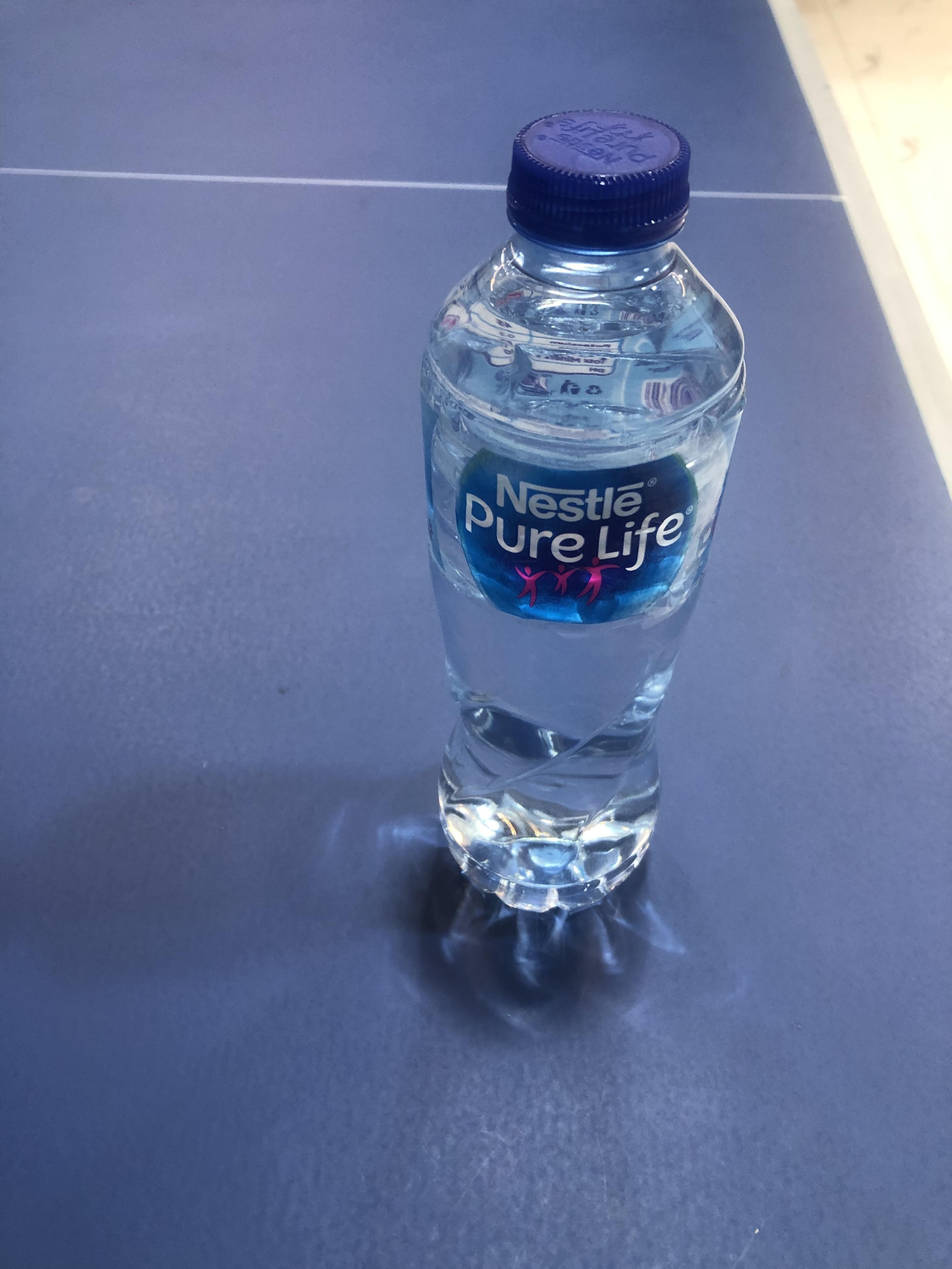bottle-plastic: (404, 99, 762, 926)
